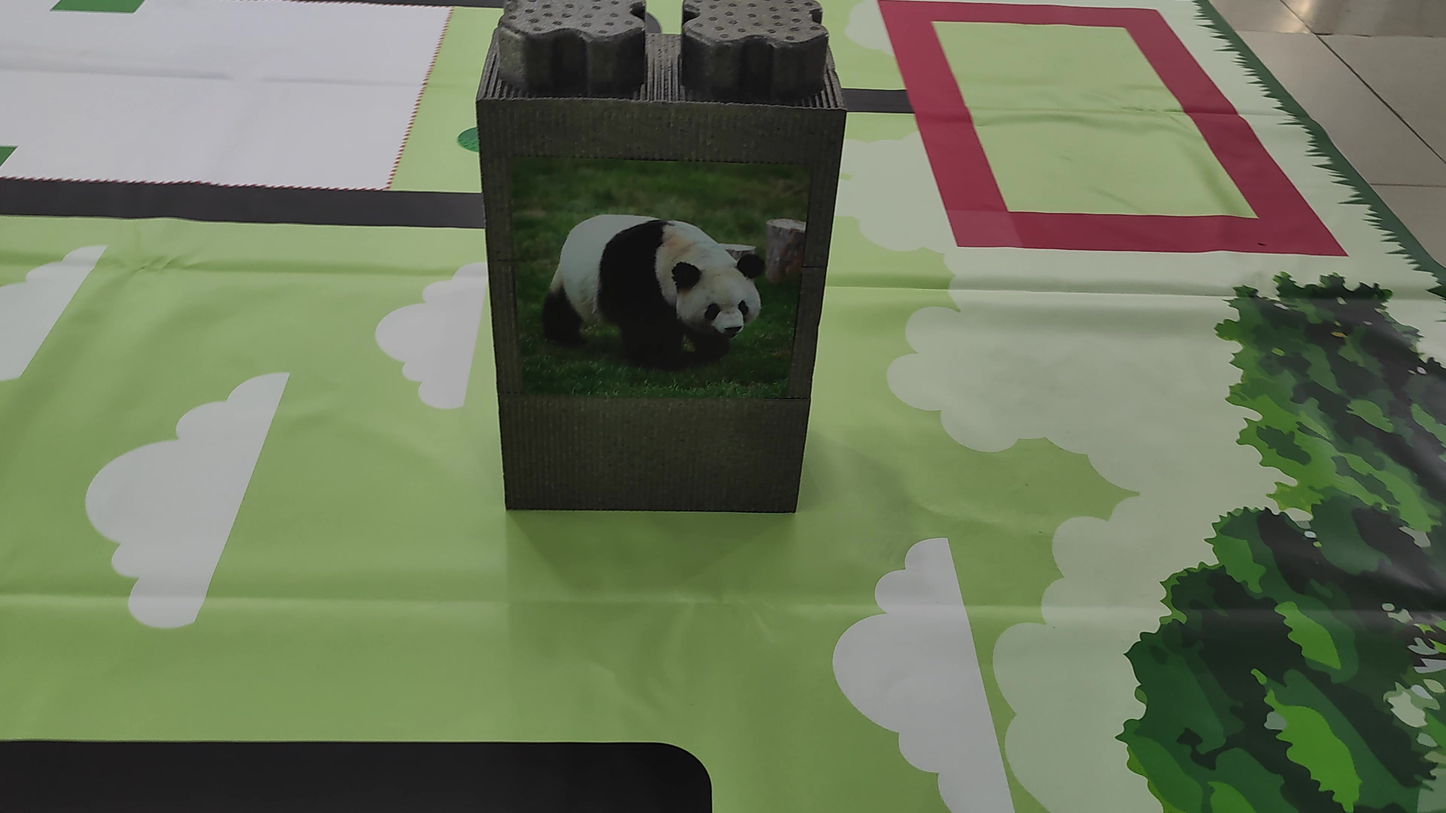panda: (510, 189, 776, 377)
